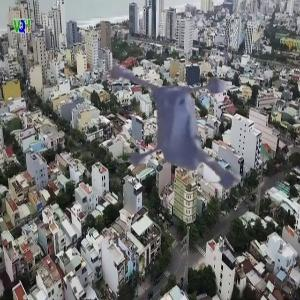drone: (108, 43, 296, 231)
